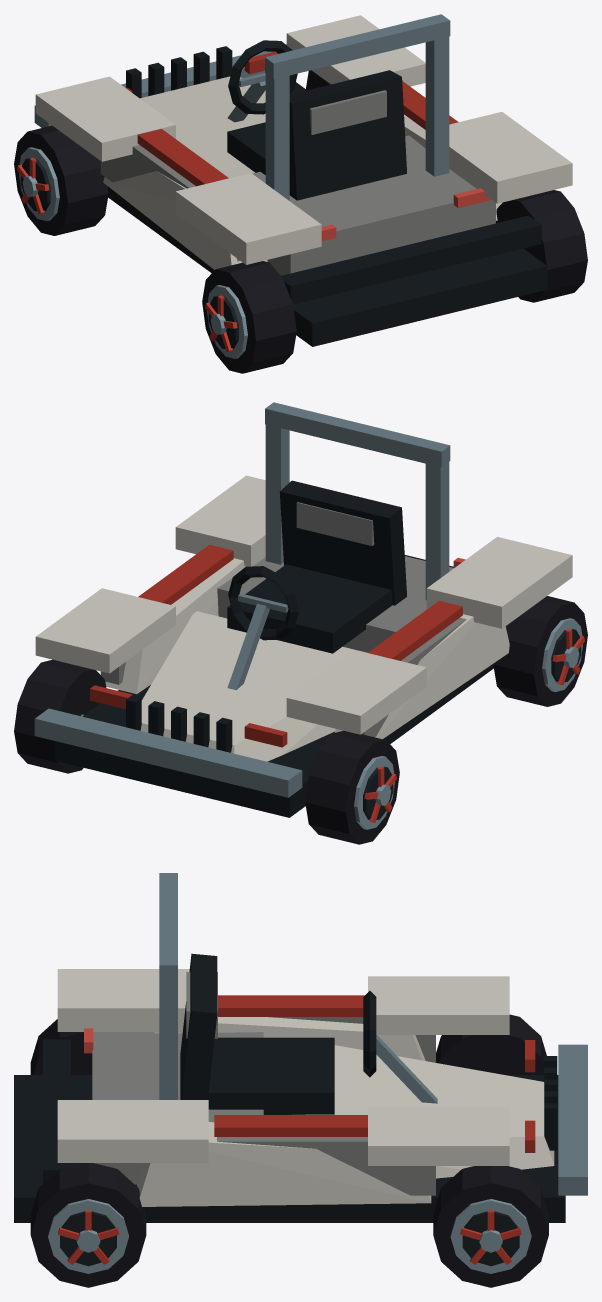
File: kart.glb
3 renders of one model, top to bottom at view 1: azimuth 30°, elevation 25°; view 2: azimuth 150°, elevation 25°; view 3: azimuth 270°, elevation 25°, orthographic. The views are drawn at different scales.
Visible parts, largest first — view 1: chassis, wheel-rear-left, wheel-front-left, wheel-rear-right; view 2: chassis, wheel-front-left, wheel-rear-left, wheel-front-right; view 3: chassis, wheel-rear-right, wheel-front-right, wheel-front-left, wheel-rear-left.
Part boxes in pixels (x1,y1,x2,y2): chassis: (34,14,572,346); wheel-rear-left: (202,261,296,373); wheel-front-left: (14,125,108,235); wheel-rear-right: (496,190,587,302); chassis: (34,402,572,817); wheel-front-left: (305,730,399,844); wheel-rear-left: (493,596,587,706); wheel-front-right: (14,659,106,773); chassis: (14,873,587,1222); wheel-rear-right: (30,1163,146,1287); wheel-front-right: (433,1166,548,1287); wheel-front-left: (436,1014,546,1074); wheel-rear-left: (30,1019,92,1074).
Bounding box in the file's own units: 2.37 × 1.67 × 3.08.
